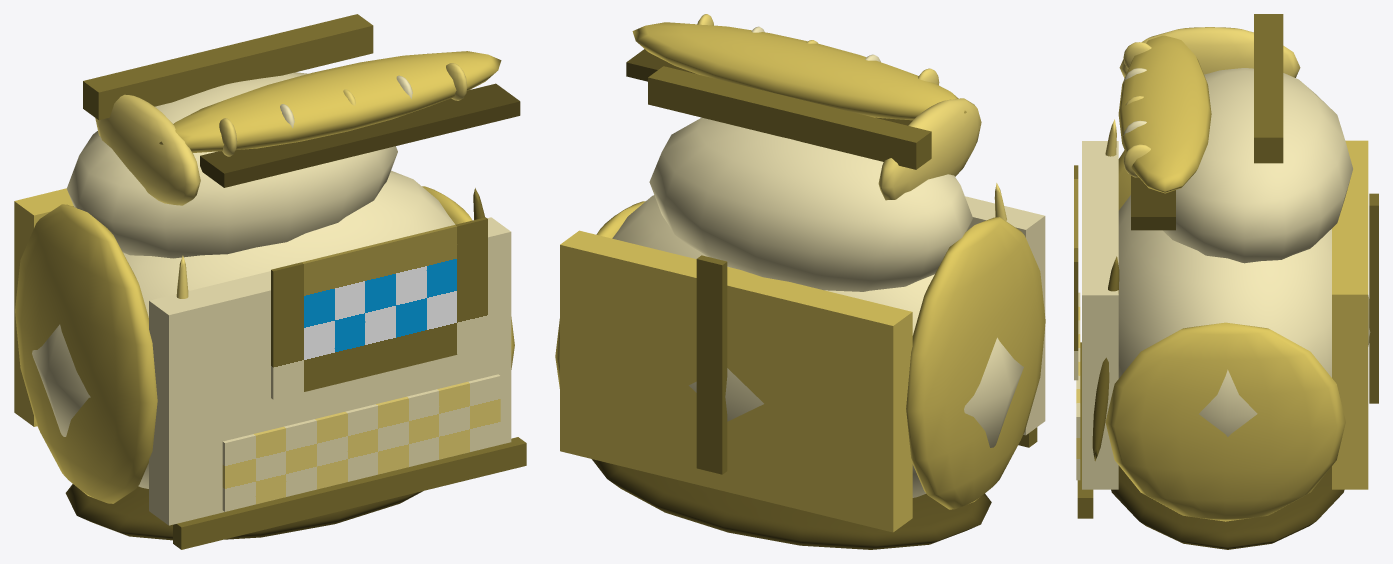
Rendered from CMU3DReagentContainerFlourCloud.glb.
3 views of the same model, side by side, from view 1: azimuth 30°, elevation 25°; view 2: azimuth 150°, elevation 25°; view 3: azimuth 270°, elevation 25° (orthographic). The views are drawn at different scales.
Visible parts, largest first — view 1: flat front paper panel, left folded paper gusset, original colored label, full sack shoulders, original lower paper weave, fold-over paper lip, rounded full paper sack belly, folded top back ridge, bottom stitched fold, shadow below rolled closure, left closure fold, folded paper sack flat sole (+2 smaller); view 2: back paper panel, full sack shoulders, left folded paper gusset, fold-over paper lip, folded paper sack flat sole, folded top back ridge, rounded full paper sack belly, rear folded seam, left closure fold, flat front paper panel, shadow below rolled closure, right folded paper gusset; view 3: right folded paper gusset, full sack shoulders, rounded full paper sack belly, back paper panel, flat front paper panel, fold-over paper lip, folded paper sack flat sole, folded top back ridge, left closure fold, rear folded seam, shadow below rolled closure, right front paper crease (+5 smaller).
Boxes of the visible parts, x1,y1,x2,y2 form: flat front paper panel: (149,217,511,525); left folded paper gusset: (15,204,157,503); original colored label: (271,217,487,399); full sack shoulders: (66,72,397,258); original lower paper weave: (222,374,500,511); fold-over paper lip: (159,51,501,152); rounded full paper sack belly: (32,170,455,488); folded top back ridge: (83,14,373,120); bottom stitched fold: (173,437,526,549); shadow below rolled closure: (200,83,520,187); left closure fold: (95,94,200,205); folded paper sack flat sole: (65,484,422,540); back paper panel: (560,230,912,532); full sack shoulders: (649,117,972,291); left folded paper gusset: (906,217,1045,509); fold-over paper lip: (632,22,966,120); folded paper sack flat sole: (592,459,991,549); folded top back ridge: (648,66,931,169); rounded full paper sack belly: (612,195,1023,497); rear folded seam: (696,255,727,474); left closure fold: (878,98,981,200); flat front paper panel: (965,196,1045,435); shadow below rolled closure: (626,49,912,125); right folded paper gusset: (555,201,645,388); right folded paper gusset: (1105,322,1345,521); full sack shoulders: (1163,68,1352,263); rounded full paper sack belly: (1118,195,1370,436); back paper panel: (1332,140,1368,489); flat front paper panel: (1082,141,1118,489); fold-over paper lip: (1118,35,1211,193); folded paper sack flat sole: (1111,465,1344,549); folded top back ridge: (1254,14,1283,163); left closure fold: (1119,27,1300,77); rear folded seam: (1369,193,1378,403); shadow below rolled closure: (1131,175,1175,230); right front paper crease: (1092,256,1119,461).
Size of what is drawn, in the model's own units: 0.439 by 0.4235 by 0.2915.
7 materials, 2 textured.
